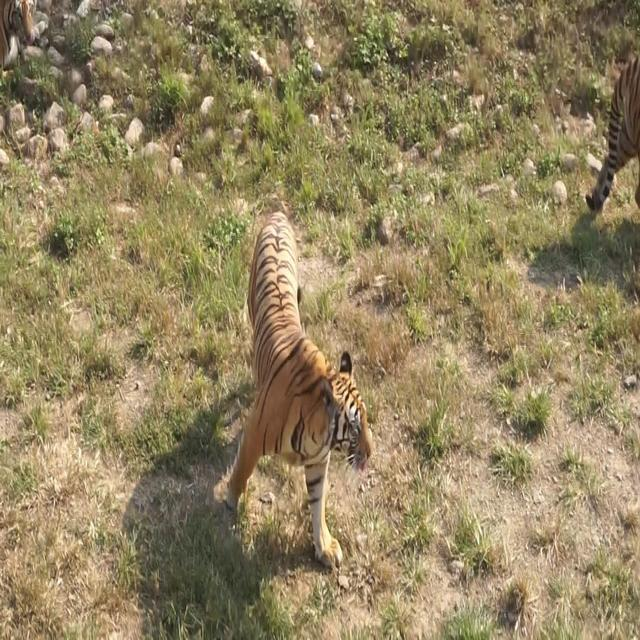tiger: (221, 209, 374, 569), (584, 45, 639, 225), (0, 0, 39, 80)
